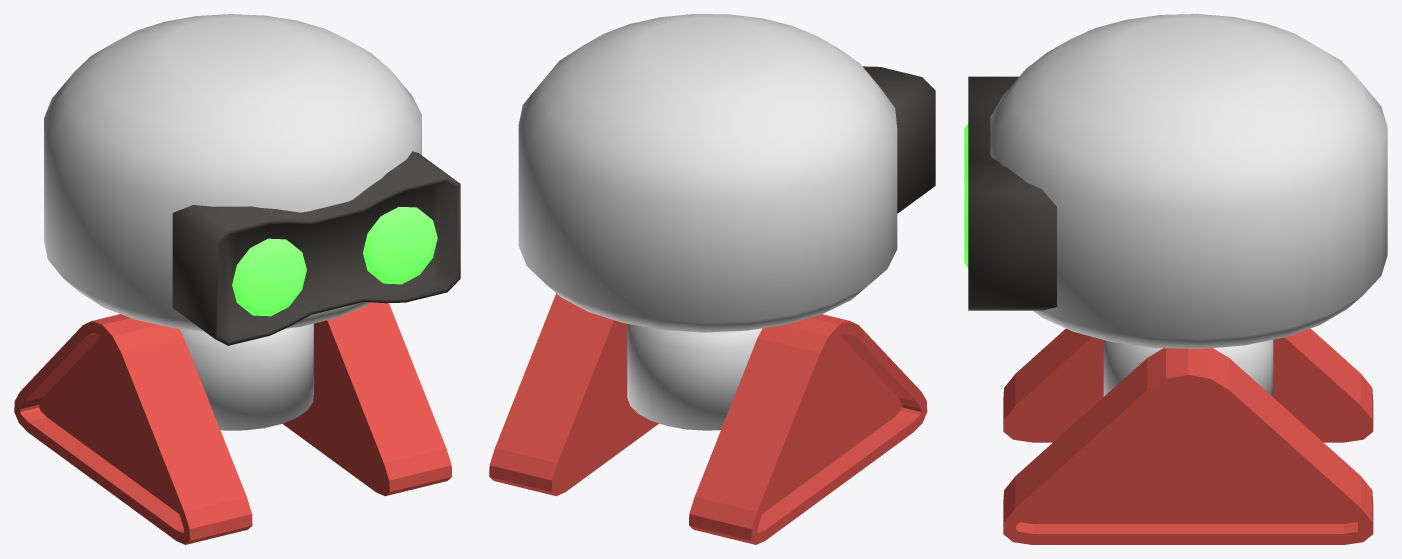
Rendered from BeeBot.fbx.
3 views of the same model, side by side, from view 1: azimuth 30°, elevation 25°; view 2: azimuth 150°, elevation 25°; view 3: azimuth 270°, elevation 25° (orthographic). The views are drawn at different scales.
Parts seen in each view (by area): view 1: Body, TreadsL, FacePiece, TreadsR, EyeL, EyeR; view 2: Body, TreadsL, TreadsR, FacePiece; view 3: Body, TreadsR, TreadsL, FacePiece.
Part boxes in pixels (x1=…): Body: x1=44, y1=14, x2=421, y2=430; TreadsL: x1=14, y1=314, x2=252, y2=544; FacePiece: x1=172, y1=151, x2=460, y2=345; TreadsR: x1=282, y1=302, x2=451, y2=496; EyeL: x1=232, y1=238, x2=306, y2=316; EyeR: x1=363, y1=207, x2=437, y2=284; Body: x1=518, y1=14, x2=897, y2=430; TreadsL: x1=689, y1=314, x2=927, y2=544; TreadsR: x1=489, y1=293, x2=658, y2=496; FacePiece: x1=863, y1=66, x2=935, y2=213; Body: x1=990, y1=14, x2=1387, y2=396; TreadsR: x1=1003, y1=348, x2=1373, y2=544; TreadsL: x1=1003, y1=328, x2=1373, y2=442; FacePiece: x1=968, y1=76, x2=1056, y2=310.
Size of the model in its own units: 162 by 192 by 172.
